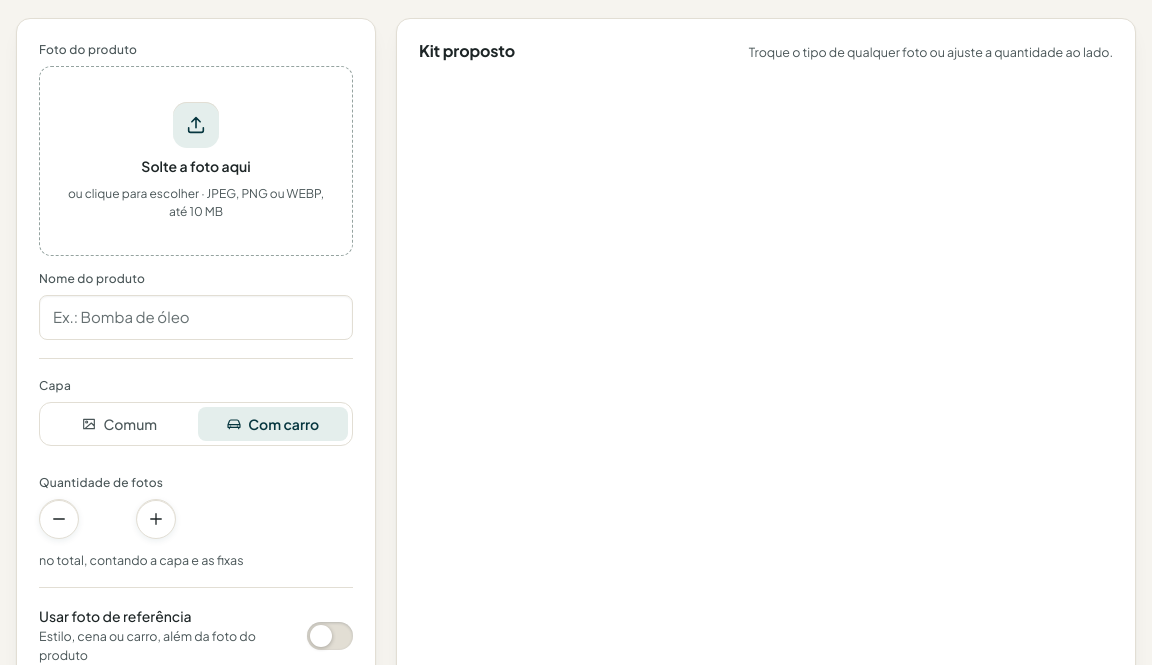
Test: BuildKit: capa e tipos › trocar para capa comum esconde os campos do carro
expect the element named "Modelo do carro" is shown: met, box [39,358,353,569]
Click the button "Comum".
click(119, 424)  # box [44,406,194,440]
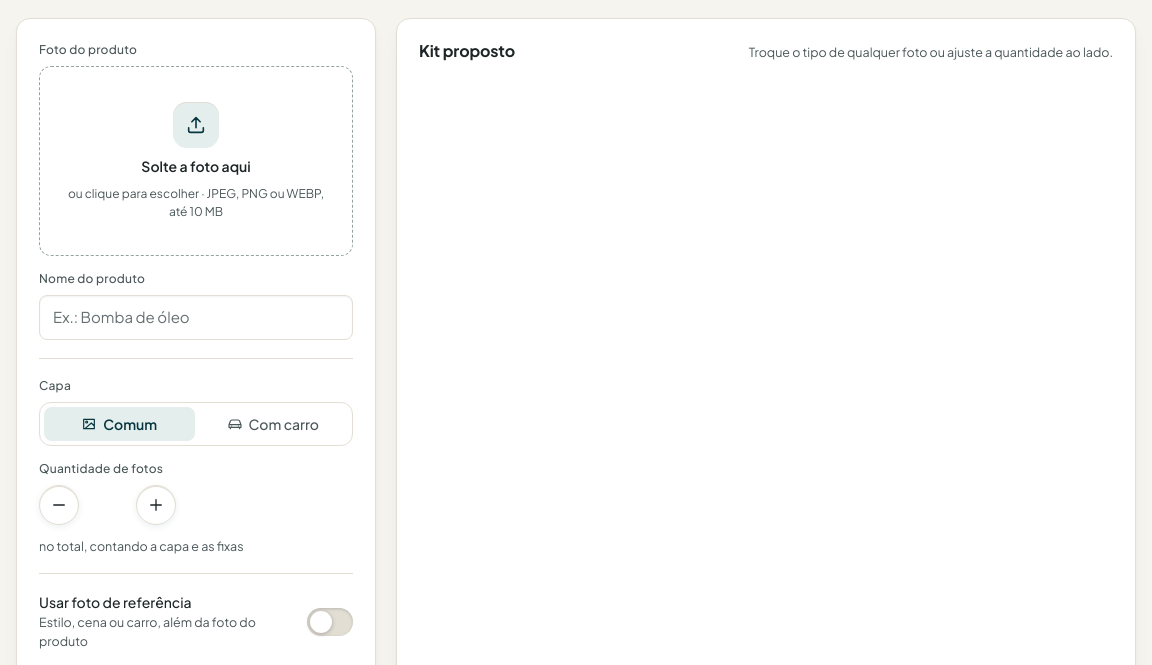
expect the field labelled "Ano" is not shown: met
Click the button "Com carro".
click(273, 424)  # box [198,406,348,440]
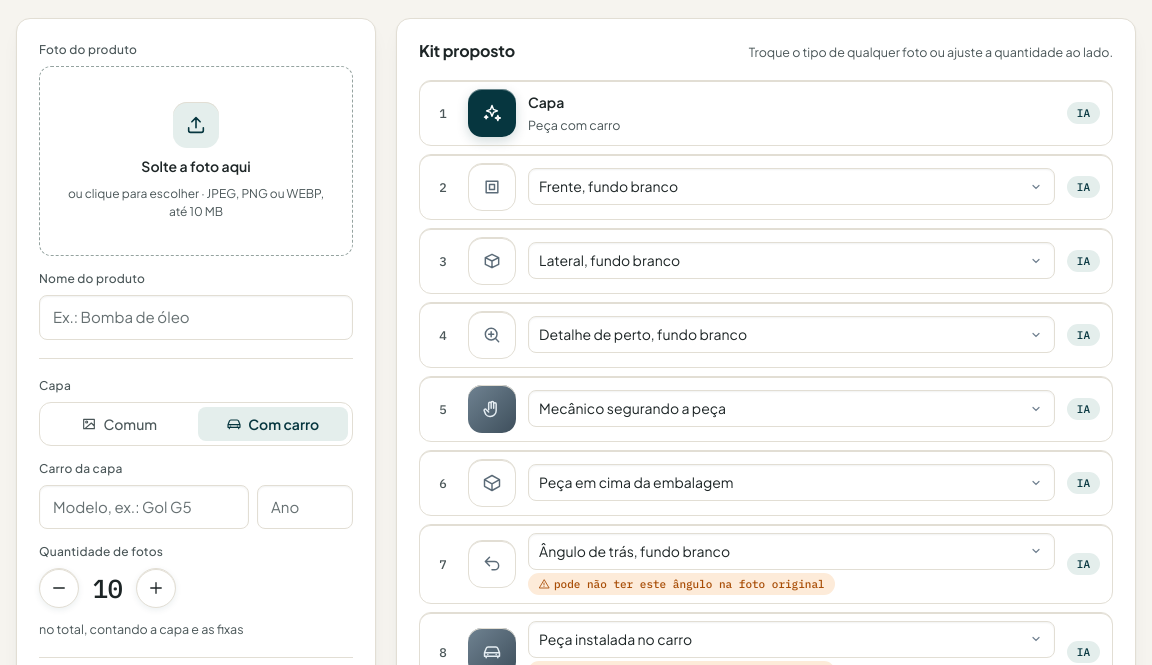
expect the field named "Modelo do carro" is shown: met, box [39,484,249,529]
